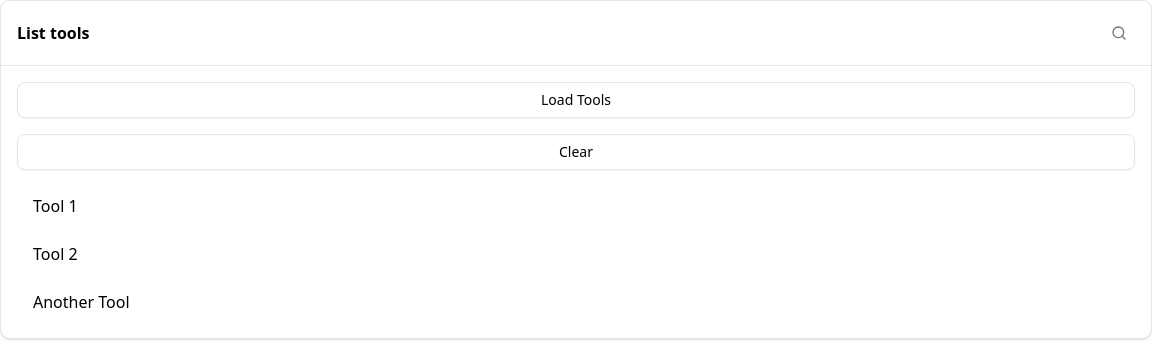
Test: ListPane › Search Functionality › should filter items based on search query
Click the button named "Search" at (1119, 33), box [1103,17,1135,49]
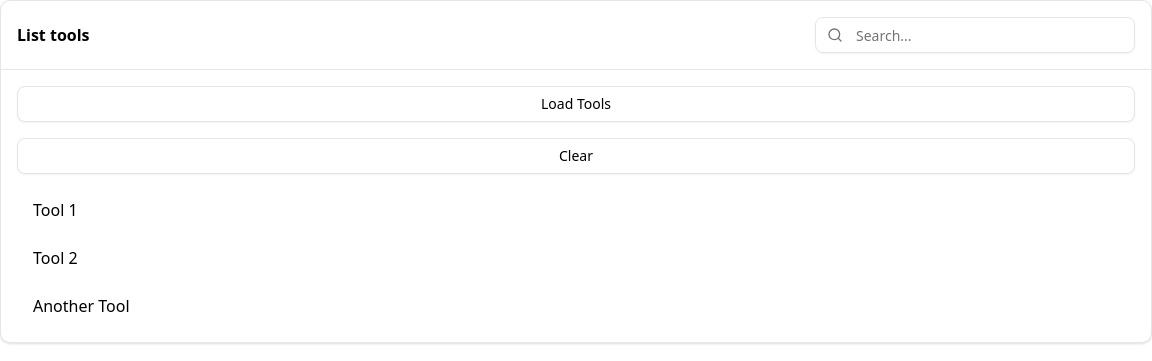
Type "Tool" into the field with placeholder "Search..." at (975, 35), box [815,17,1135,53]
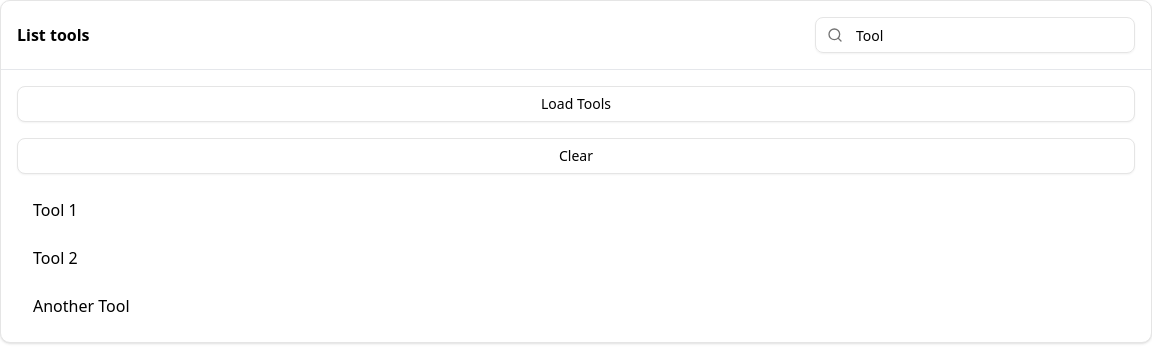
Expected: the text "Tool 1" is shown, [33,198,78,222]
Expected: the text "Tool 2" is shown, [33,246,78,270]
Replace the text in the field with placeholder "Search..." with "Another" at (975, 35), box [815,17,1135,53]
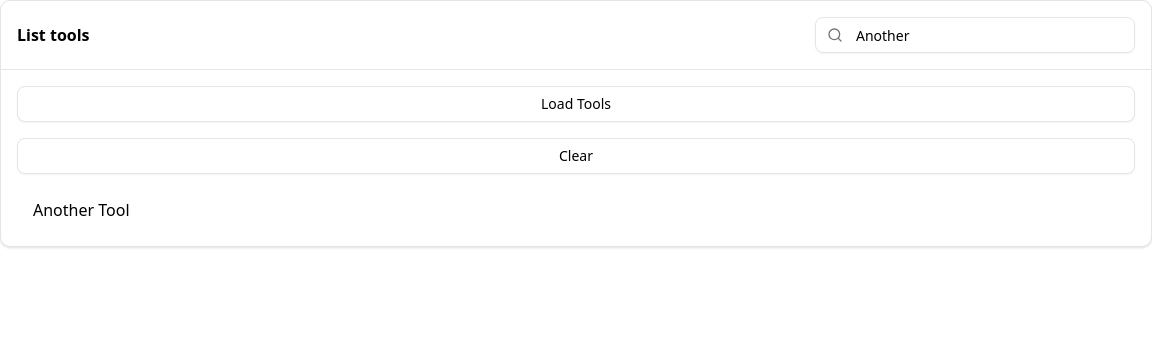
Result: the text "Tool 1" is gone
Result: the text "Tool 2" is gone
Result: the text "Another Tool" is shown at [33,198,130,222]
